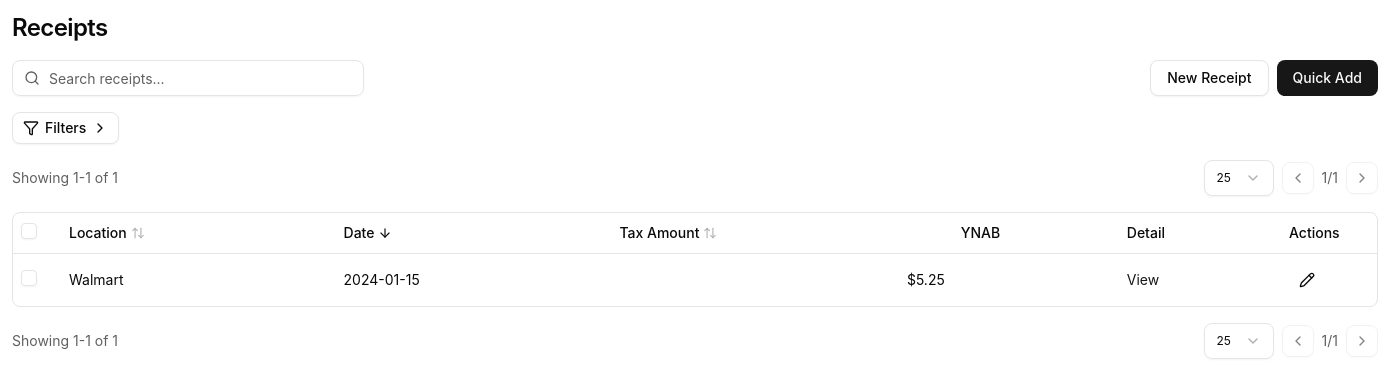
Receipts › toggles checkbox selection and shows delete button
Click the checkbox named "Select Walmart" at point(29, 278), box [21,270,37,286]
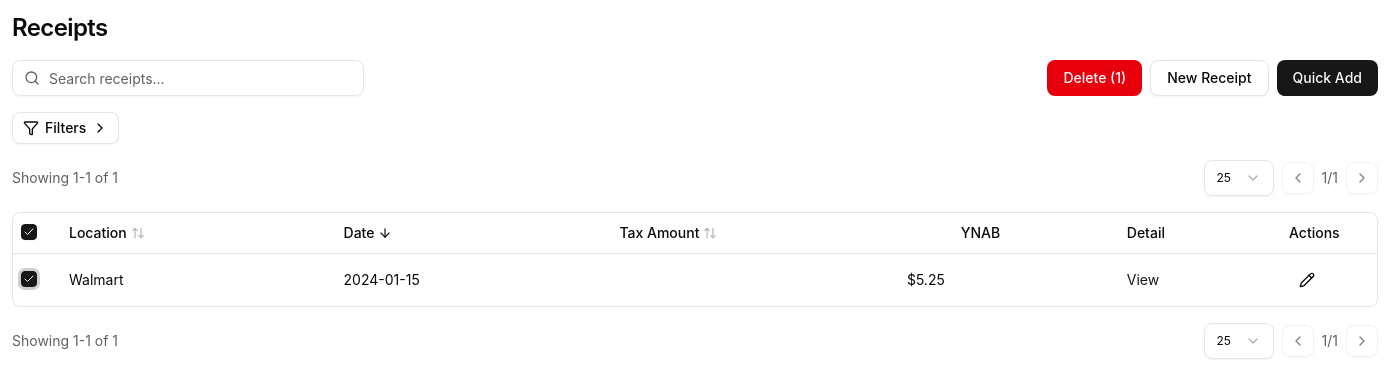
Expected: the button "Delete (1)" is shown, [1047,60,1142,96]
